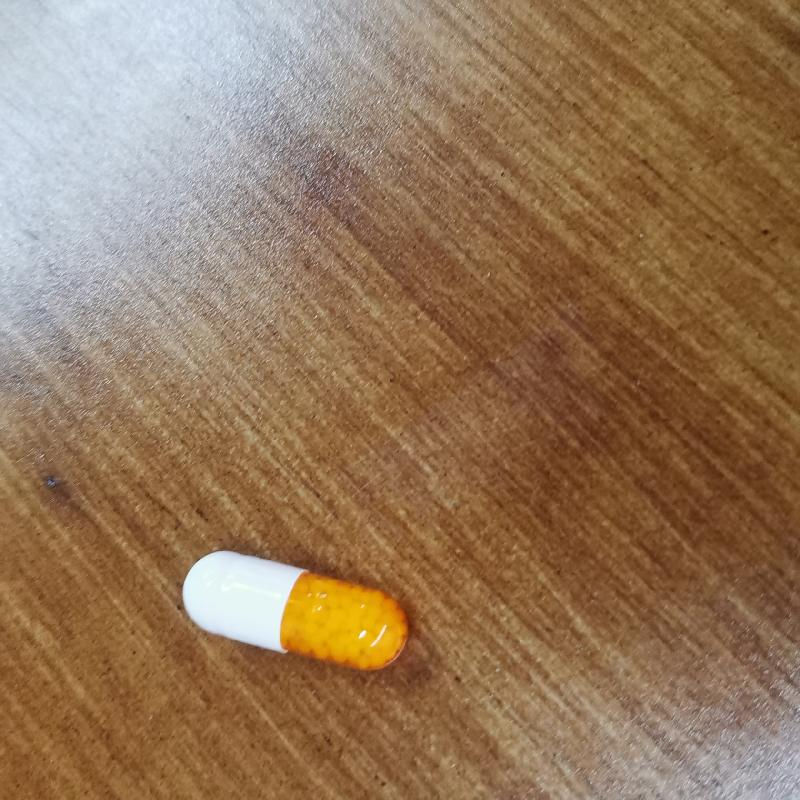pills: (156, 534, 426, 687)
